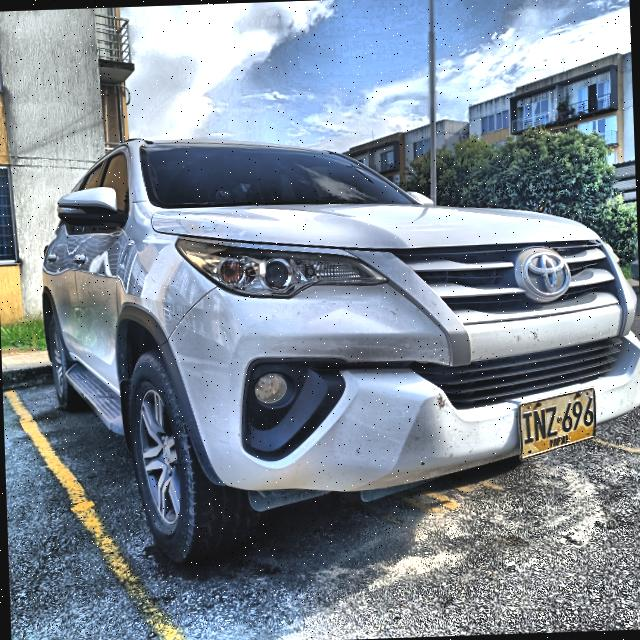6: (561, 400, 572, 434), (582, 395, 593, 429)
9: (572, 398, 584, 431)
I: (521, 410, 535, 447)
N: (532, 407, 547, 442)
Z: (545, 404, 558, 439)
